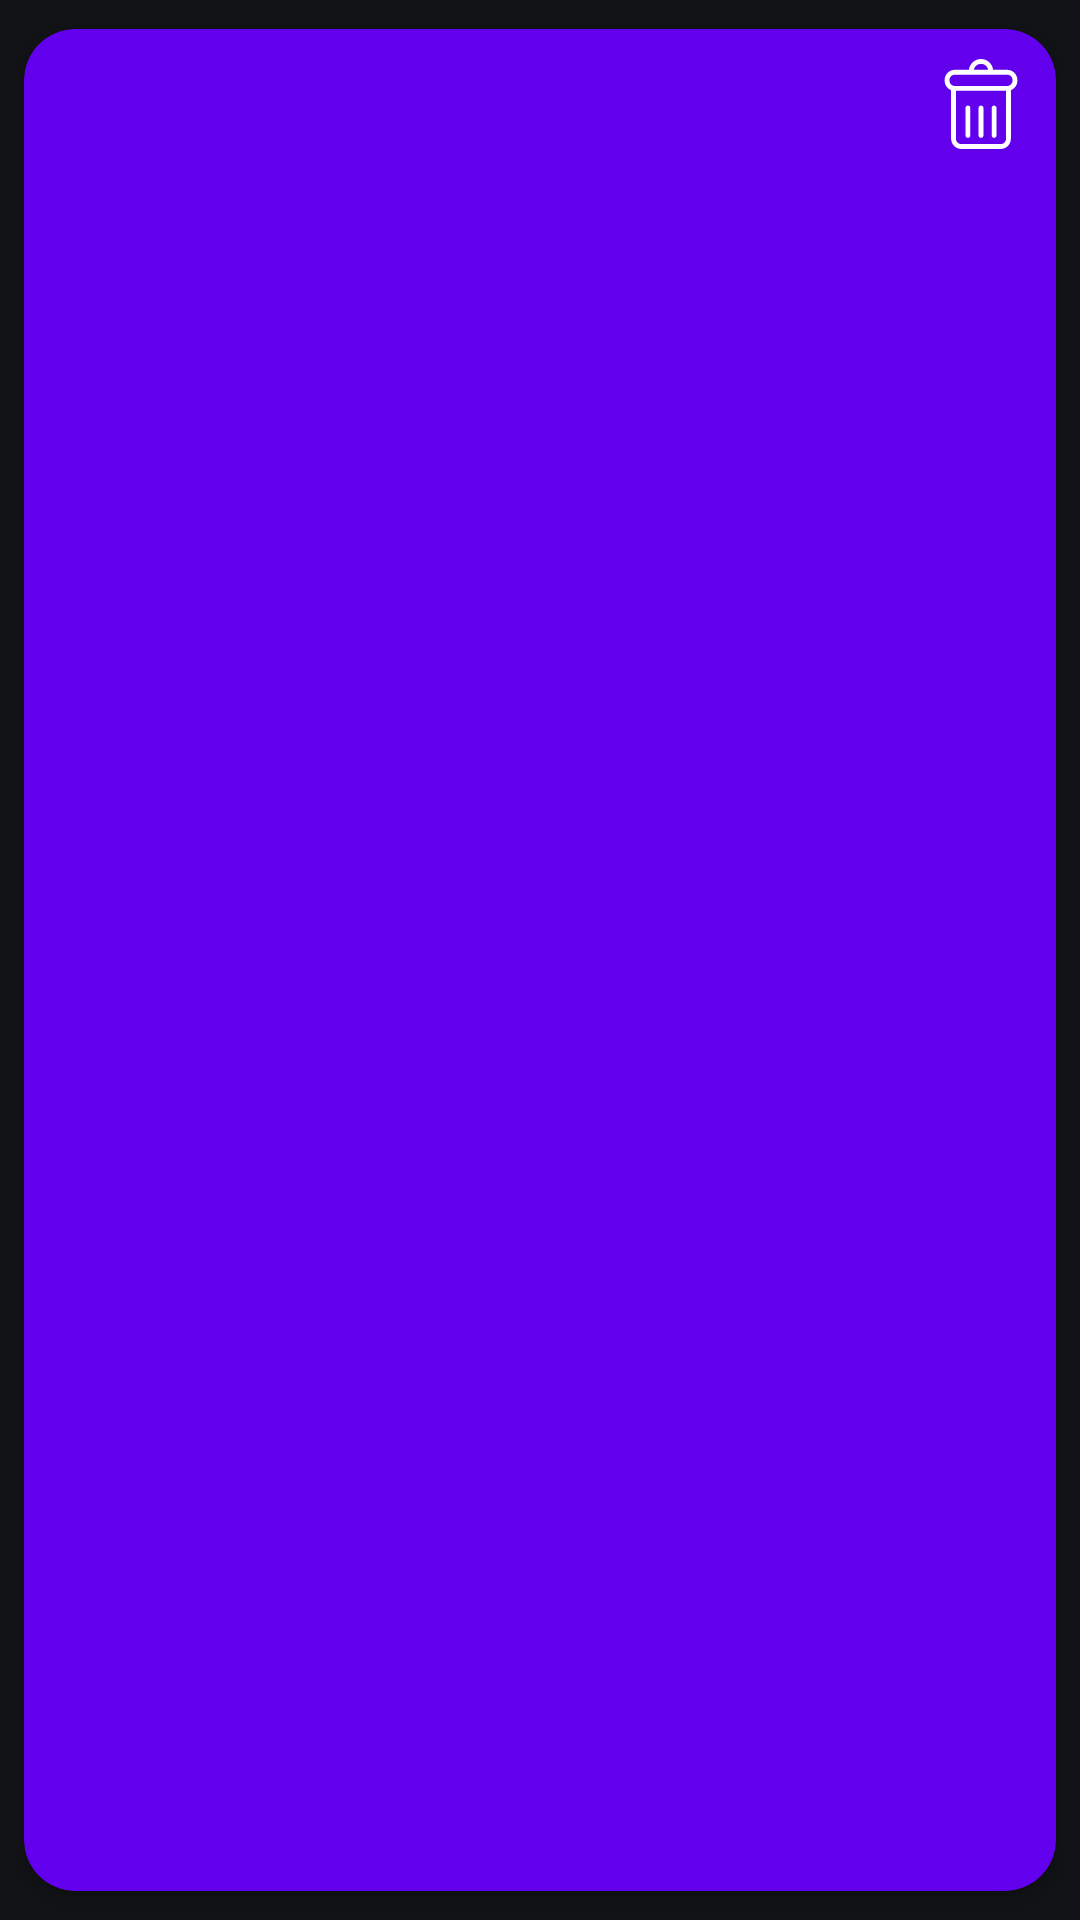

Icon click points for this 1080x1920 phone screenshot, format [x,y]:
angajat delete: [981,104]
